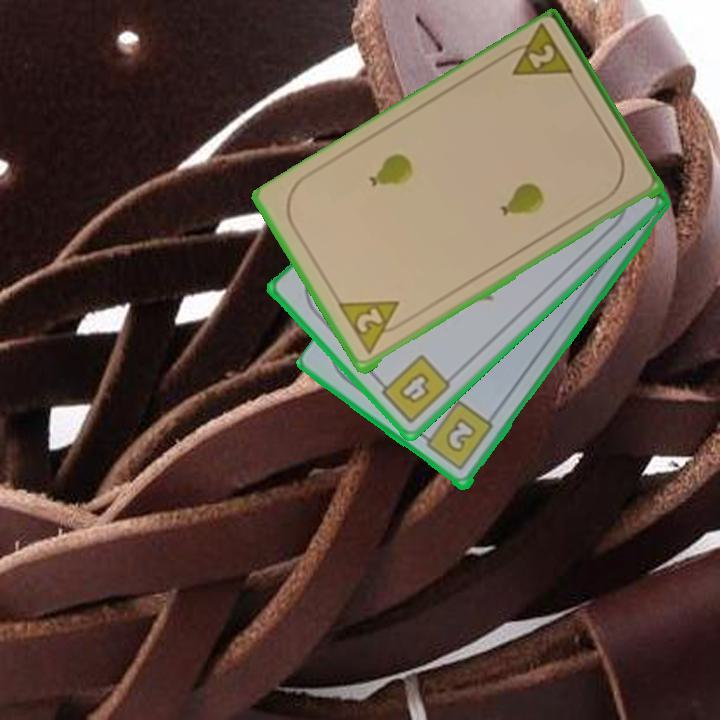2b: (416, 398, 496, 474)
2p: (335, 297, 411, 360), (498, 23, 578, 82)
4b: (372, 351, 454, 427)
